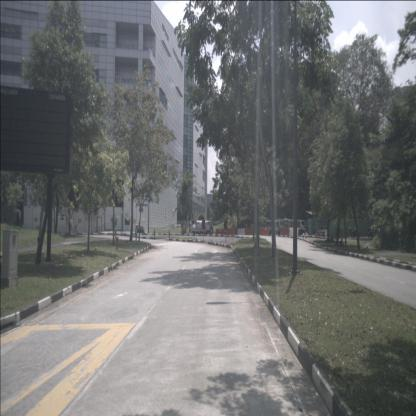human-pedestrian-adult: (303, 223, 307, 239), (339, 237, 344, 246), (138, 221, 140, 233), (212, 223, 214, 235)
movable_object-barrier: (289, 227, 299, 237), (260, 227, 270, 236), (237, 228, 246, 236), (226, 228, 236, 235), (280, 228, 289, 235), (215, 228, 225, 234), (245, 228, 253, 235)
vehicle-bicycle: (74, 223, 78, 237)
vehicle-motorcycle: (349, 227, 360, 240), (135, 221, 145, 235)
vehicle-truck: (192, 220, 212, 235), (266, 219, 284, 235), (288, 219, 306, 235)
